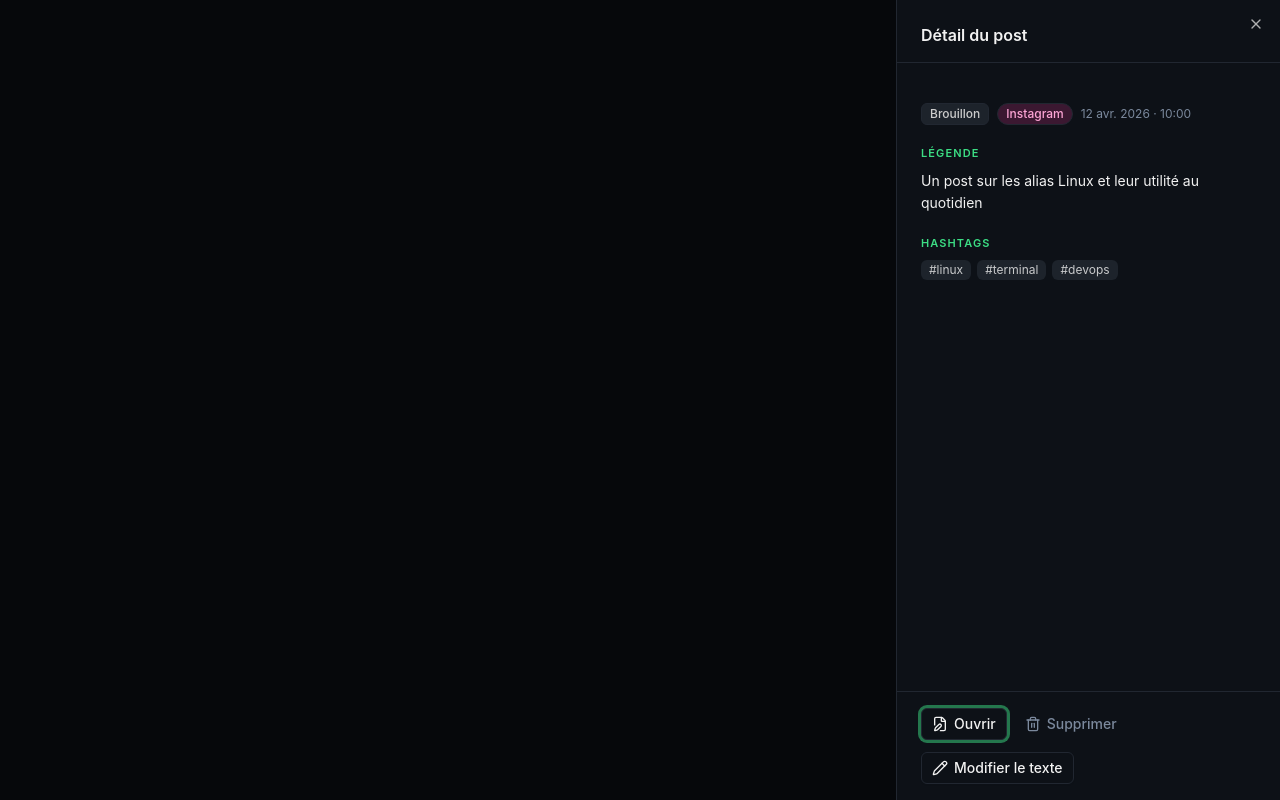
it: PostDetailSheet — suppression (toggle un seul bouton) › premier clic → bouton bascule en mode Confirmer ?
Step 1. Click the button "Supprimer" → {"x": 1071, "y": 724}, box [1015,708,1127,740]
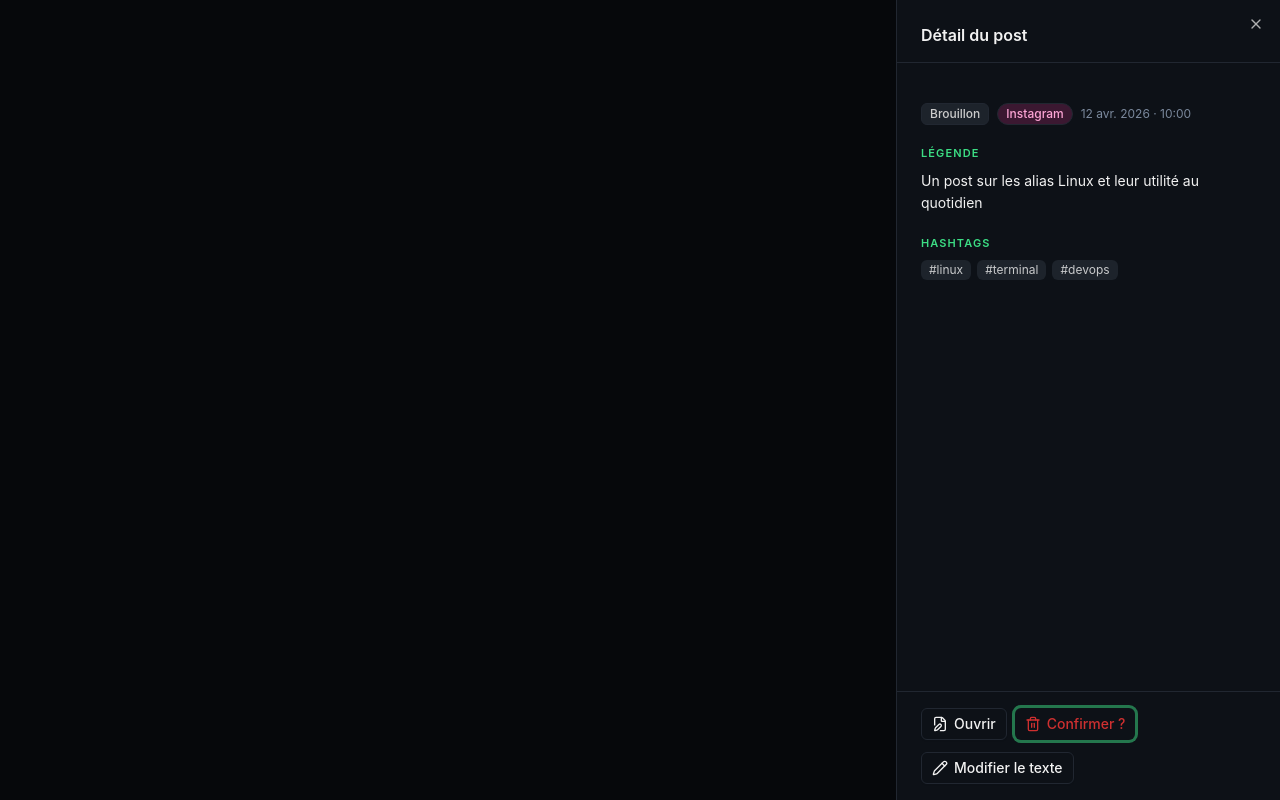
Expected: the button "Confirmer ?" is shown, [1015,708,1136,740]
